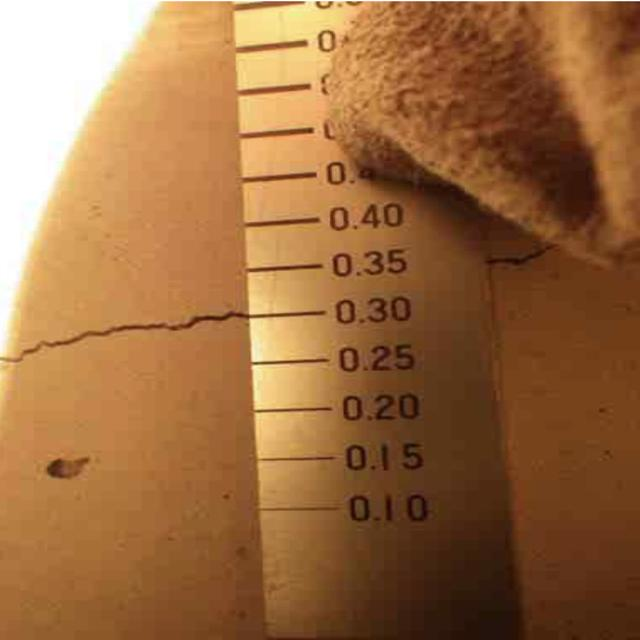crack: (0, 277, 250, 372), (480, 217, 593, 289)
